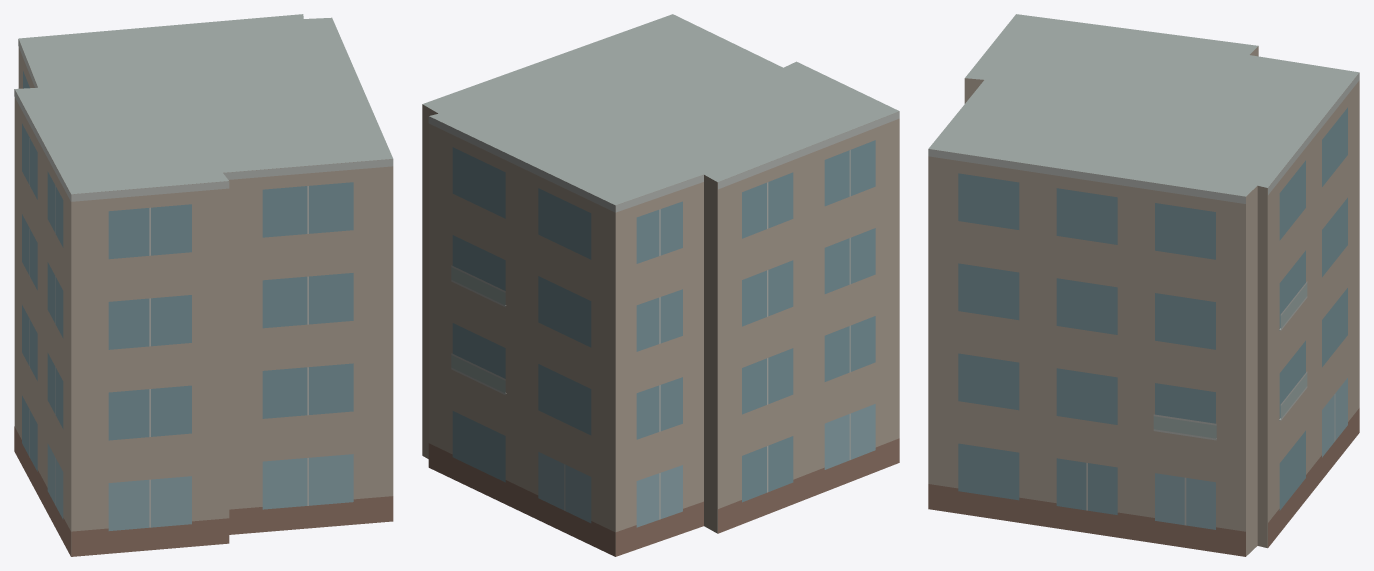
The model's file is survey-upis-32494377.glb.
The picture shows the model from 3 angles, left to right: view 1: azimuth 30°, elevation 25°; view 2: azimuth 150°, elevation 25°; view 3: azimuth 270°, elevation 25°; orthographic projection. The views are drawn at different scales.
Visible parts, largest first — view 1: survey-upis-32494377.tmp; view 2: survey-upis-32494377.tmp; view 3: survey-upis-32494377.tmp.
Part boxes in pixels (x1=…): survey-upis-32494377.tmp: x1=14, y1=14, x2=393, y2=556; survey-upis-32494377.tmp: x1=422, y1=14, x2=899, y2=556; survey-upis-32494377.tmp: x1=928, y1=14, x2=1359, y2=556.
Size of the model in its own units: 12.73 by 11.7 by 12.71.
